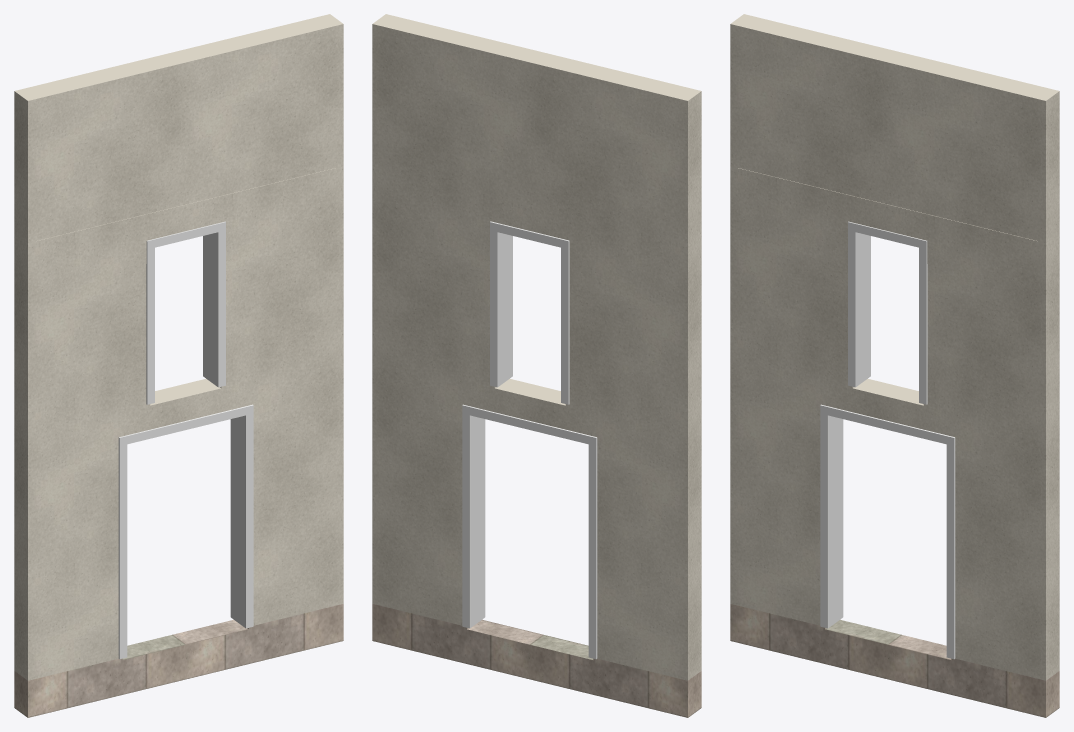
The model's file is nave_tower_wall.glb.
The picture shows the model from 3 angles, left to right: view 1: azimuth 30°, elevation 25°; view 2: azimuth 150°, elevation 25°; view 3: azimuth 330°, elevation 25°; orthographic projection.
Visible parts, largest first — view 1: nave_tower_wall_plaster, nave_tower_wall_frame, nave_tower_wall_stone; view 2: nave_tower_wall_plaster, nave_tower_wall_frame, nave_tower_wall_stone; view 3: nave_tower_wall_plaster, nave_tower_wall_frame, nave_tower_wall_stone.
Boxes of the visible parts, x1,y1,x2,y2 form: nave_tower_wall_plaster: [14, 14, 343, 680]; nave_tower_wall_frame: [118, 221, 253, 659]; nave_tower_wall_stone: [14, 604, 343, 717]; nave_tower_wall_plaster: [372, 14, 701, 680]; nave_tower_wall_frame: [462, 221, 597, 659]; nave_tower_wall_stone: [372, 604, 701, 717]; nave_tower_wall_plaster: [730, 14, 1059, 680]; nave_tower_wall_frame: [820, 221, 955, 659]; nave_tower_wall_stone: [730, 604, 1059, 717].
Bounding box in the file's own units: 4 × 7.47 × 0.34.
3 materials, 2 textured.
